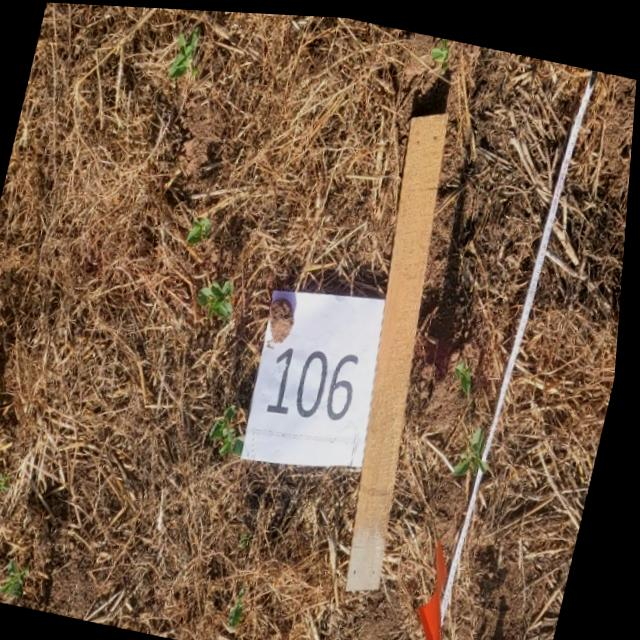soy_plant: (215, 402, 251, 454), (461, 423, 494, 471), (201, 279, 238, 319), (170, 26, 199, 76), (8, 559, 38, 598), (190, 215, 215, 243), (431, 33, 450, 69), (460, 355, 477, 389), (0, 475, 17, 500)
